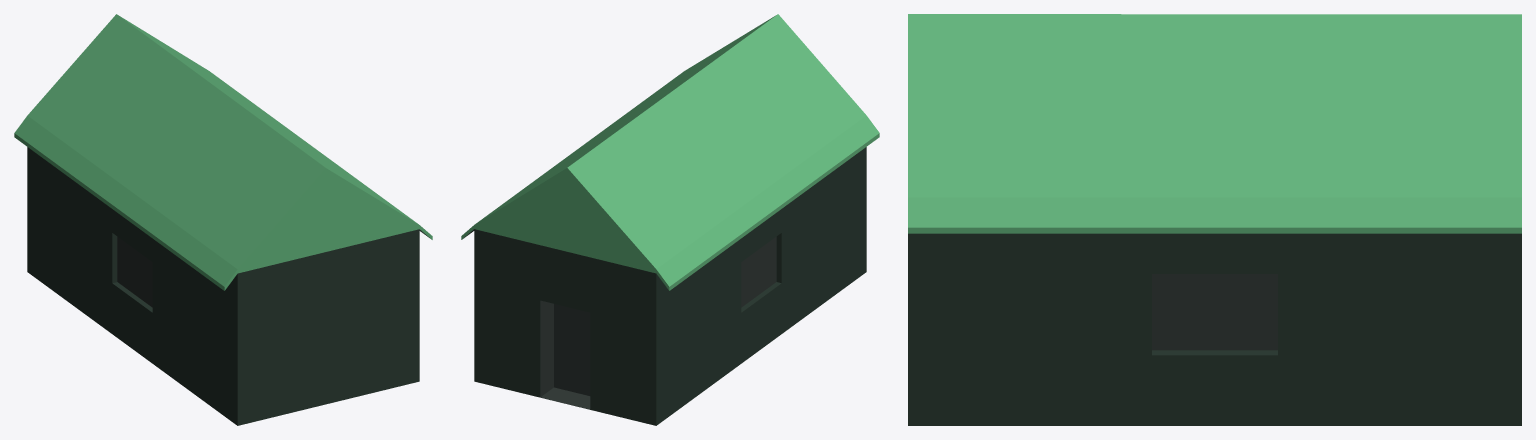
File: NEW_home.fbx
3 views of the same model, side by side, from view 1: azimuth 30°, elevation 25°; view 2: azimuth 150°, elevation 25°; view 3: azimuth 270°, elevation 25° (orthographic). The views are drawn at different scales.
Visible parts, largest first — view 1: Cube; view 2: Cube; view 3: Cube.
Part boxes in pixels (x1,y1,x2,y2): Cube: [14, 14, 432, 425]; Cube: [461, 14, 879, 425]; Cube: [908, 14, 1521, 425].
Bounding box in the file's own units: 1600 × 1737 × 2800.
